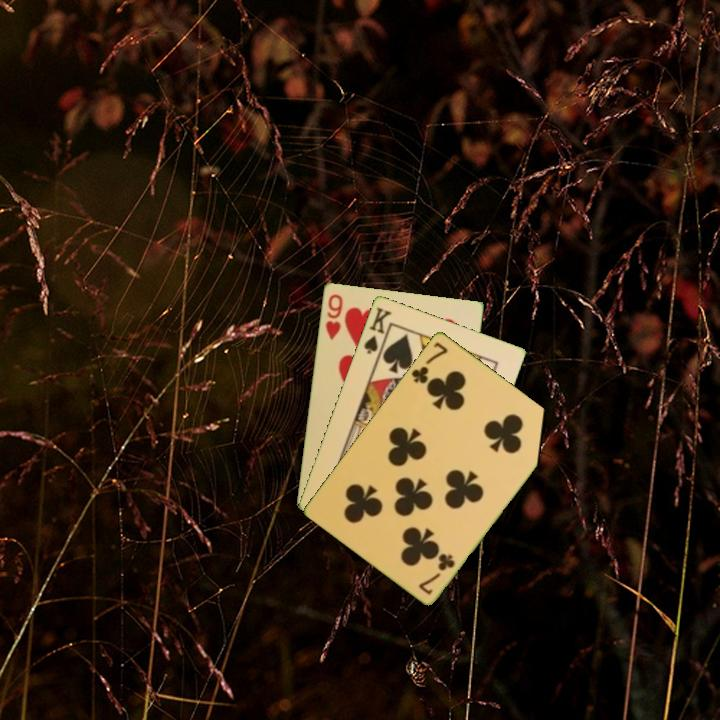7c: (407, 338, 451, 386), (415, 549, 458, 597)
9h: (322, 290, 345, 342)
Ks: (360, 303, 394, 360)
